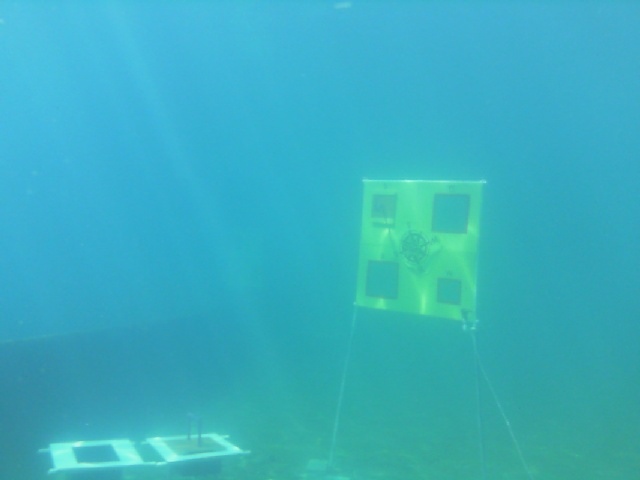bin: (150, 431, 249, 469), (46, 438, 145, 475)
bin_cover: (159, 415, 230, 464)
torpedo_cover: (370, 193, 400, 220)
torpedo_hole: (431, 192, 472, 236), (365, 258, 399, 302), (367, 191, 402, 228), (436, 275, 463, 308)
torpedo_target: (356, 174, 485, 332)
